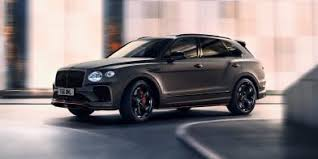car: (50, 32, 268, 122)
